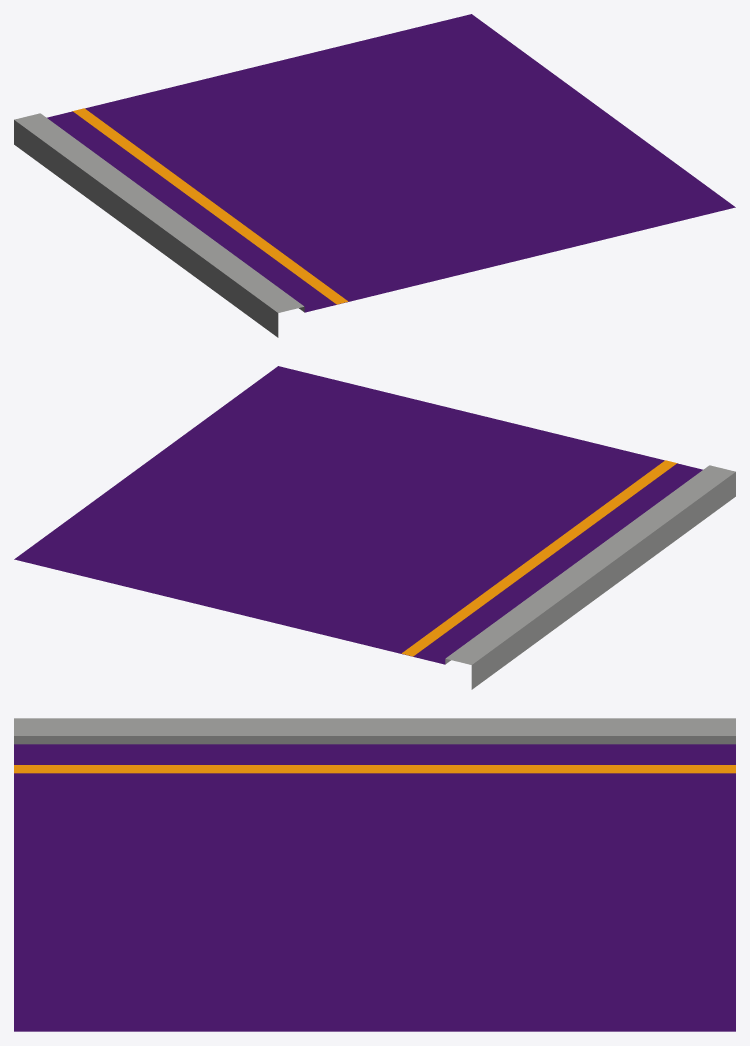
Rendered from ParkingRoad_C_4.fbx.
3 views of the same model, one above another, from view 1: azimuth 30°, elevation 25°; view 2: azimuth 150°, elevation 25°; view 3: azimuth 270°, elevation 25° (orthographic). The views are drawn at different scales.
Visible parts, largest first — view 1: ParkingRoad_C_4; view 2: ParkingRoad_C_4; view 3: ParkingRoad_C_4.
Boxes of the visible parts, x1,y1,x2,y2 form: ParkingRoad_C_4: (14,14,735,337); ParkingRoad_C_4: (14,366,735,689); ParkingRoad_C_4: (14,718,735,1031).
Size of the model in its own units: 800 by 41.48 by 800.
